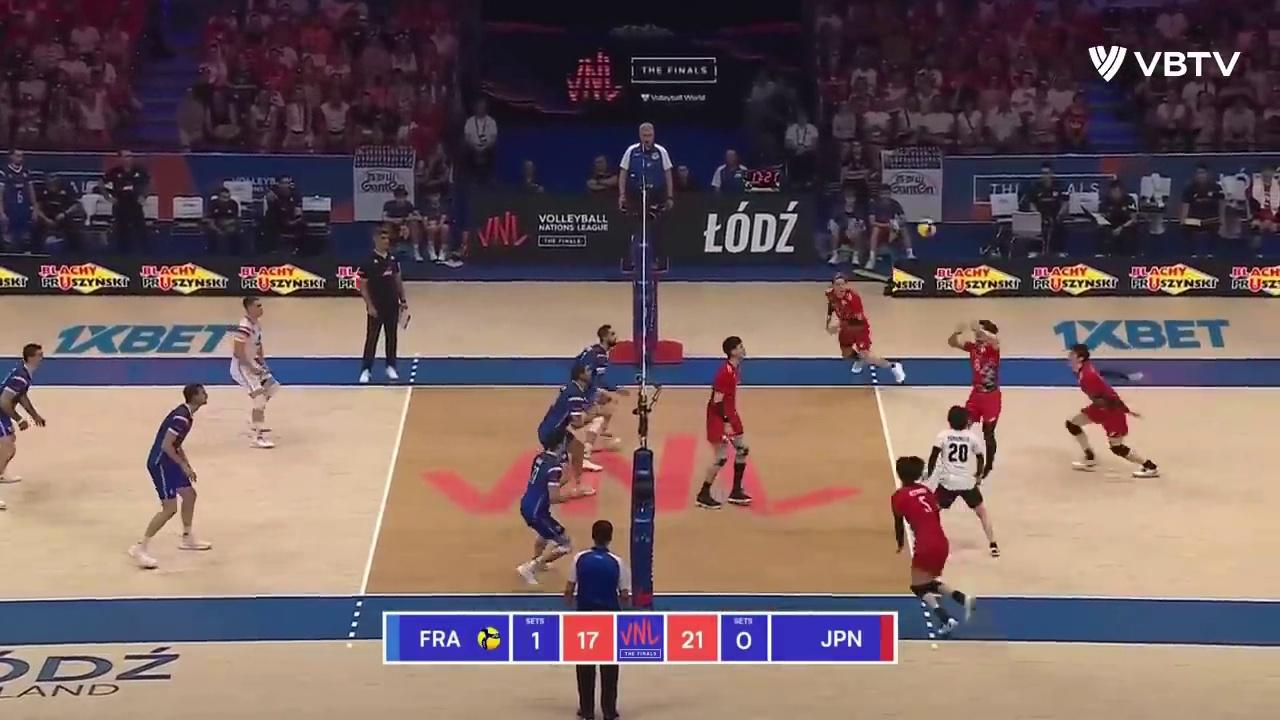ball: (918, 217, 937, 237)
